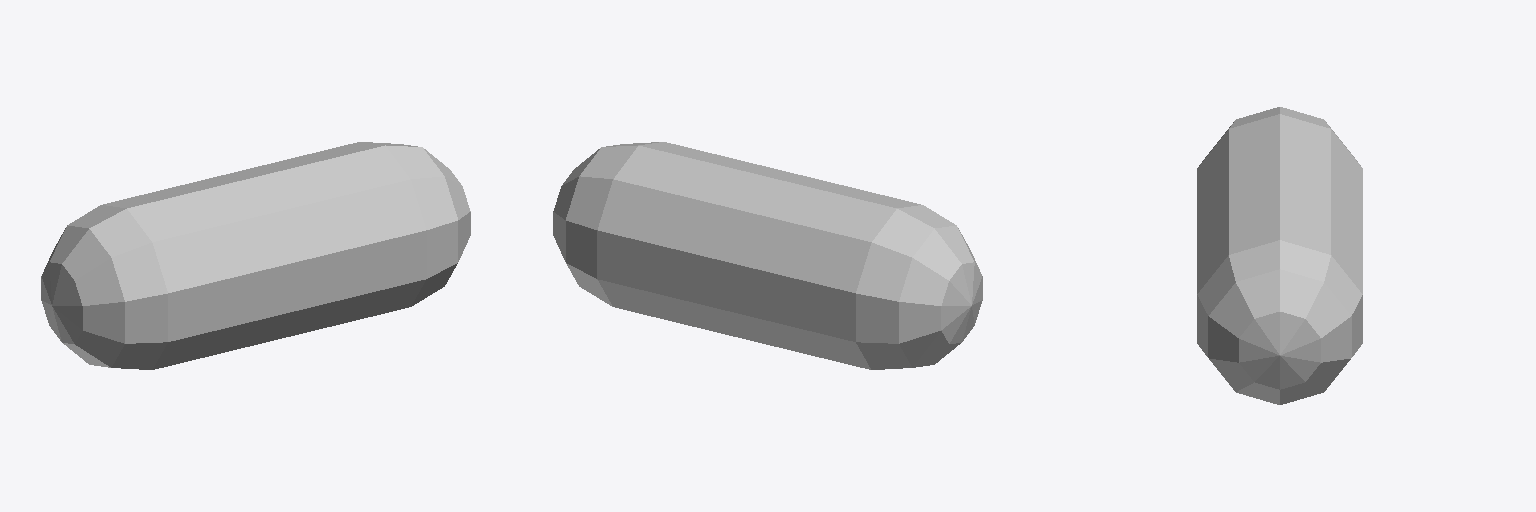
Rendered from Pill.obj.
3 renders of one model, left to right at view 1: azimuth 30°, elevation 25°; view 2: azimuth 150°, elevation 25°; view 3: azimuth 270°, elevation 25°, orthographic.
Visible parts, largest first — view 1: Mesh1 skpAC04_1 Component_3_1 Model; view 2: Mesh1 skpAC04_1 Component_3_1 Model; view 3: Mesh1 skpAC04_1 Component_3_1 Model.
Part boxes in pixels (left/top/right/bottom): Mesh1 skpAC04_1 Component_3_1 Model: left=41, top=142, right=470, bottom=369; Mesh1 skpAC04_1 Component_3_1 Model: left=553, top=142, right=982, bottom=369; Mesh1 skpAC04_1 Component_3_1 Model: left=1197, top=107, right=1362, bottom=404.
Bounding box in the file's own units: 0.7574 × 0.2804 × 0.2667.